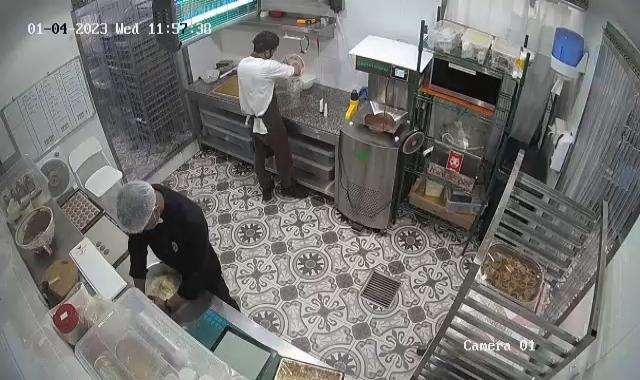hairnet: (110, 181, 162, 234)
no_hairnet: (249, 31, 281, 55)
